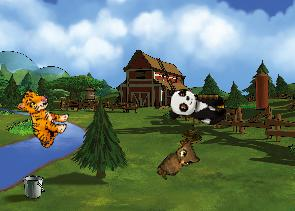owl: (154, 136, 205, 189)
panda: (166, 87, 229, 126)
tiger: (6, 86, 75, 151)
